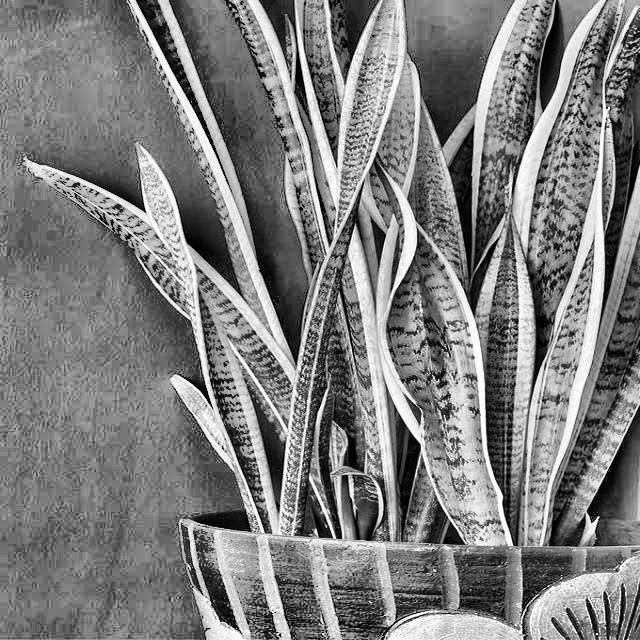plants: (53, 0, 639, 635)
